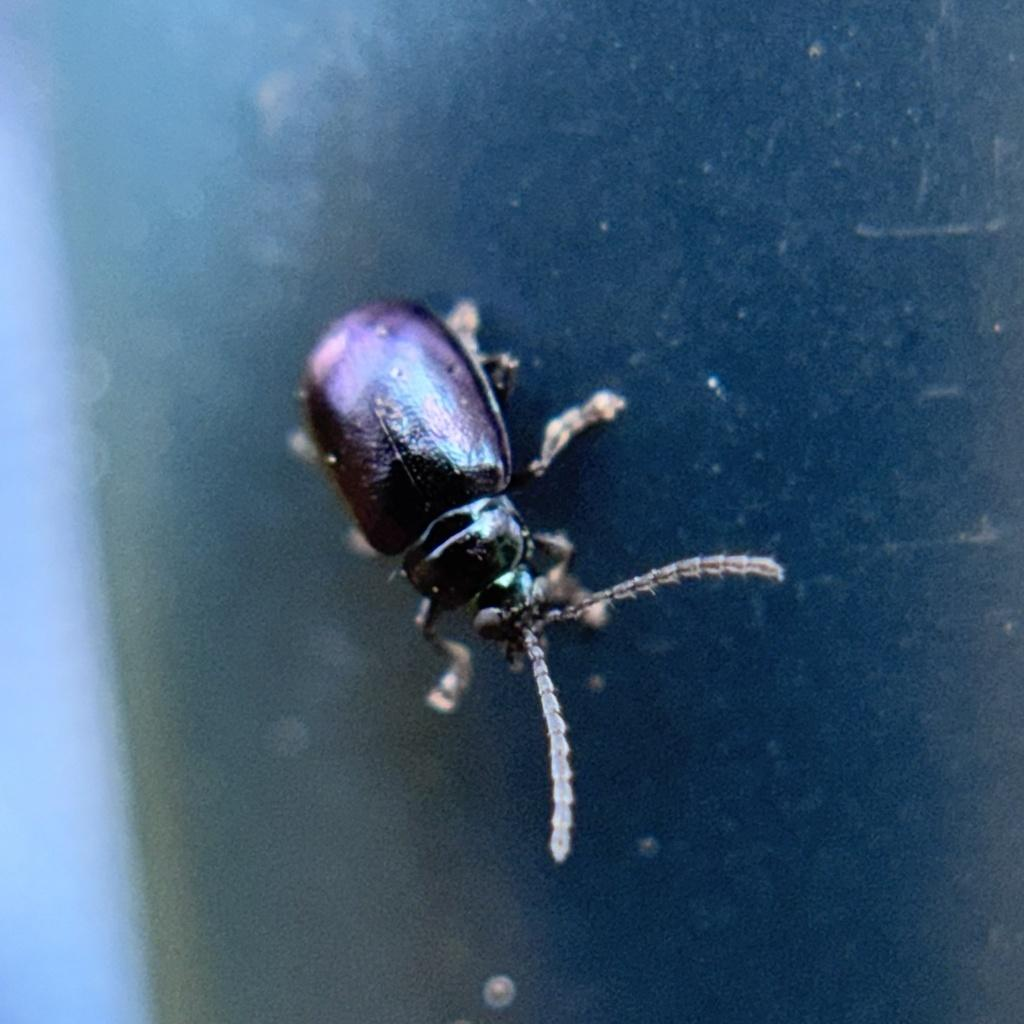flea_beetle: (199, 204, 863, 925)
